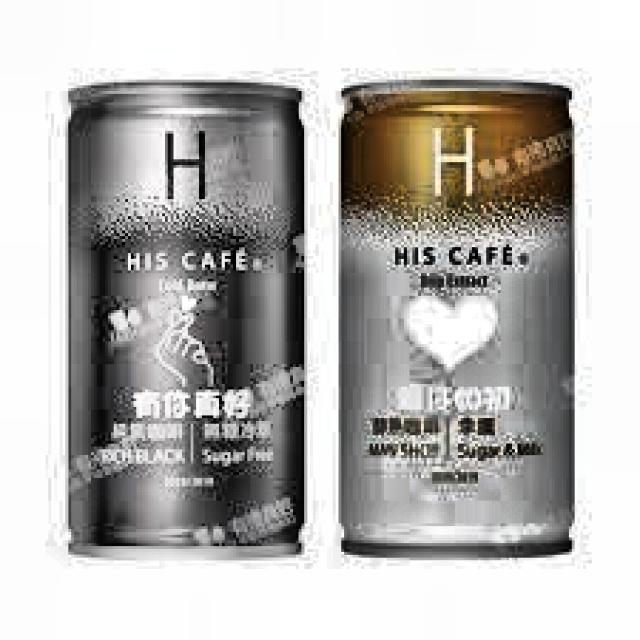can: (326, 69, 584, 573), (58, 71, 317, 570)
